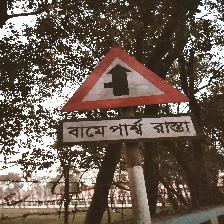Side-road-left: (59, 45, 198, 145)
